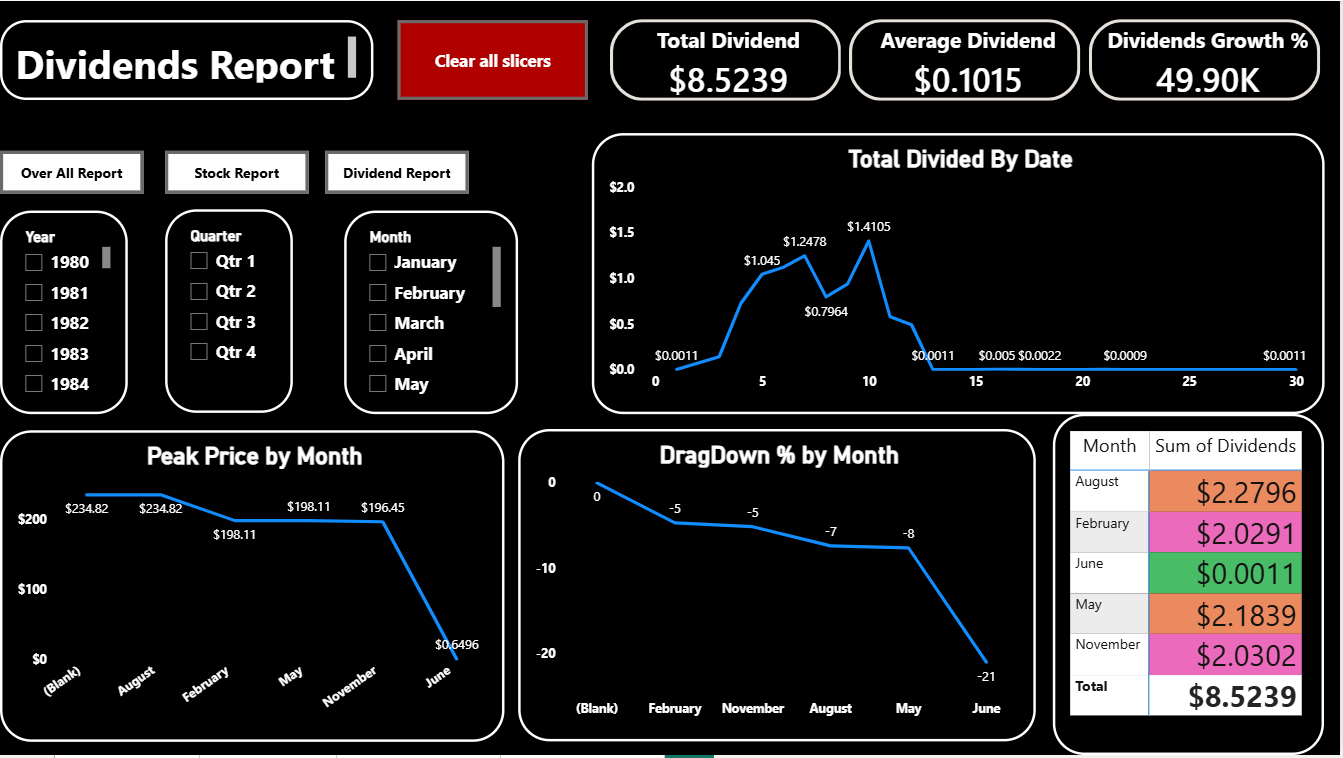

This screenshot's page, from the dashboard's own definition file:
{"tool":"powerbi","page":{"name":"dividend Report","canvas":[1280,720],"ordinal":2},"visuals":[{"type":"cardVisual","fields":{"Data":["AppleStockDivid.Total Dividend","AppleStockDivid.Average Dividend","AppleStockDivid.Dividends Growth %"]},"box":[564.8,0,714.8,113],"z":0},{"type":"lineChart","title":"Total Divided By Date","fields":{"Category":["AppleStockDivid.Date_12"],"Y":["AppleStockDivid.Total Dividend"]},"box":[564.8,125.9,700,268.5],"z":1000},{"type":"pivotTable","fields":{"Rows":["AppleStockDivid.Month"],"Values":["Sum(AppleStockDivid.Dividends)"]},"box":[1005.6,394.4,259.3,325.9],"z":2000},{"type":"lineChart","fields":{"Category":["AppleStockDivid.Month"],"Y":["AppleStockDivid.DragDown %"]},"box":[494.4,409.3,494.4,298.1],"z":3000},{"type":"slicer","fields":{"Values":["AppleStockPrice.Date.Variation.Date Hierarchy.Year"]},"box":[0,200.4,121.7,194.3],"z":4000},{"type":"slicer","fields":{"Values":["AppleStockPrice.Date.Variation.Date Hierarchy.Quarter"]},"box":[157.4,199.2,121.7,194.3],"z":5000},{"type":"slicer","fields":{"Values":["AppleStockPrice.Date.Variation.Date Hierarchy.Month"]},"box":[328.3,200.4,166,194.3],"z":6000},{"type":"textbox","box":[0,18.4,356.6,76.2],"z":7000},{"type":"actionButton","box":[0,142.6,137,40.7],"z":8000},{"type":"actionButton","box":[157.4,142.6,137,40.7],"z":9000},{"type":"actionButton","box":[311.1,142.6,137,40.7],"z":10000},{"type":"actionButton","box":[380,18.4,182,76.2],"z":11000},{"type":"lineChart","fields":{"Category":["AppleStockDivid.Month"],"Y":["AppleStockDivid.Peak Price"]},"box":[0,409.5,482.1,297.6],"z":12000}]}

Visuals, with their boxes in screenshot pixels (x1, y1, x2, y2), scaled from the page's 1280x720 canvas onto the 1343x758 screenshot:
cardVisual - AppleStockDivid.Total Dividend x AppleStockDivid.Average Dividend: x1=593 y1=0 x2=1342 y2=119
"Total Divided By Date" lineChart: x1=593 y1=133 x2=1327 y2=415
pivotTable - AppleStockDivid.Month x Sum(AppleStockDivid.Dividends): x1=1055 y1=415 x2=1327 y2=757
lineChart - AppleStockDivid.Month x AppleStockDivid.DragDown %: x1=519 y1=431 x2=1037 y2=745
slicer - AppleStockPrice.Date.Variation.Date Hierarchy.Year: x1=0 y1=211 x2=128 y2=416
slicer - AppleStockPrice.Date.Variation.Date Hierarchy.Quarter: x1=165 y1=210 x2=293 y2=414
slicer - AppleStockPrice.Date.Variation.Date Hierarchy.Month: x1=344 y1=211 x2=519 y2=416
textbox: x1=0 y1=19 x2=374 y2=100
actionButton: x1=0 y1=150 x2=144 y2=193
actionButton: x1=165 y1=150 x2=309 y2=193
actionButton: x1=326 y1=150 x2=470 y2=193
actionButton: x1=399 y1=19 x2=590 y2=100
lineChart - AppleStockDivid.Month x AppleStockDivid.Peak Price: x1=0 y1=431 x2=506 y2=744
